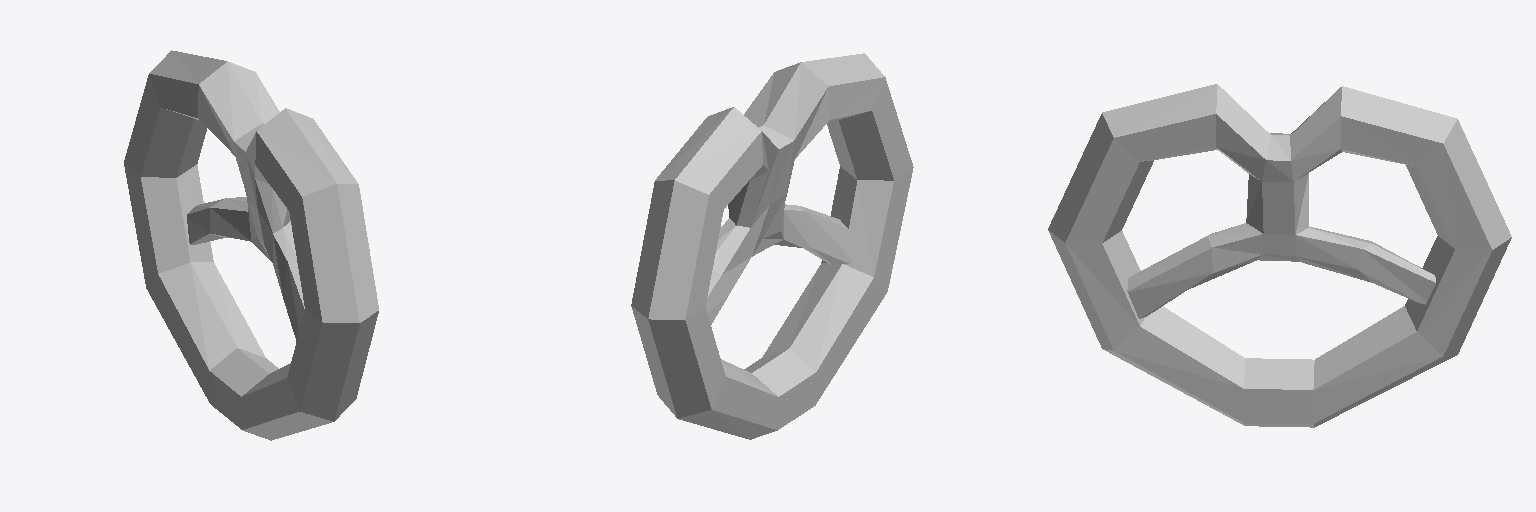
Rendered from misc016.obj.
The picture shows the model from 3 angles: view 1: azimuth 30°, elevation 25°; view 2: azimuth 150°, elevation 25°; view 3: azimuth 270°, elevation 25°; orthographic projection.
Parts seen in each view (by area): view 1: misc016; view 2: misc016; view 3: misc016.
Part boxes in pixels (bbox=[...]): misc016: bbox=[124, 50, 378, 440]; misc016: bbox=[631, 53, 913, 439]; misc016: bbox=[1048, 84, 1511, 427].
Size of the model in its own units: 0.0018 by 0.0074 by 0.0091.